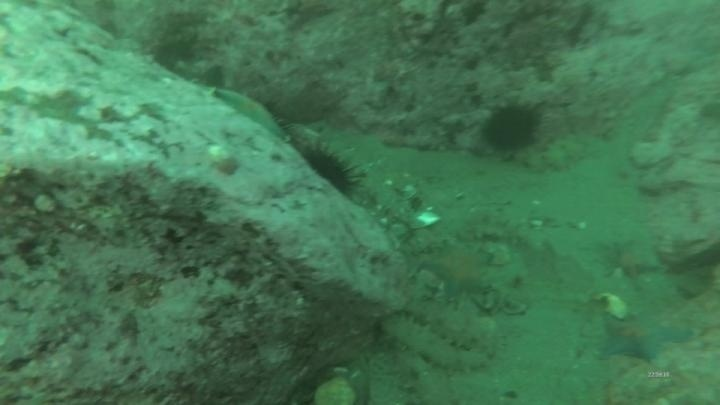echinus: (298, 142, 363, 200), (479, 99, 544, 156)
holothurian: (375, 314, 494, 373), (409, 300, 512, 352), (516, 130, 600, 176), (453, 209, 528, 248)
starfish: (594, 311, 694, 366), (417, 238, 492, 303), (212, 85, 291, 146), (603, 236, 663, 281)
